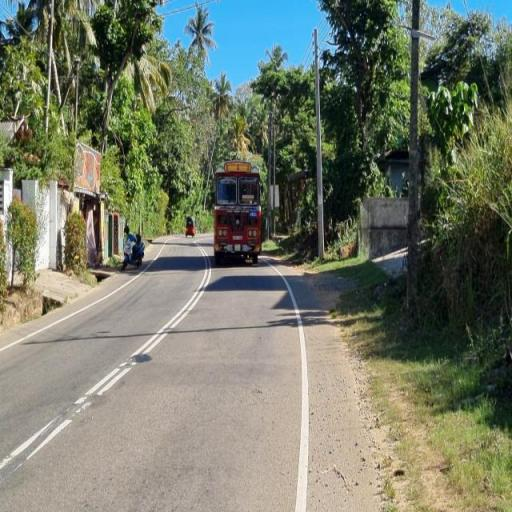double_white_line: (76, 252, 210, 414)
